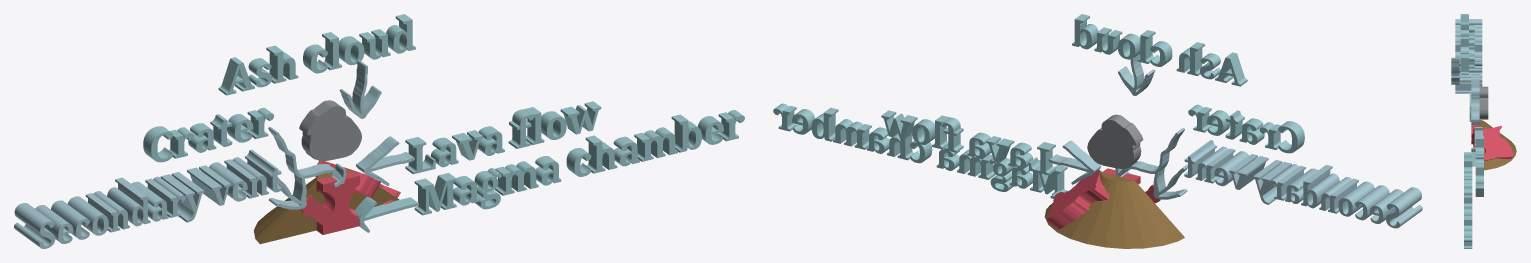
File: Volcano diagram.glb
3 renders of one model, left to right at view 1: azimuth 30°, elevation 25°; view 2: azimuth 150°, elevation 25°; view 3: azimuth 270°, elevation 25°, orthographic. The views are drawn at different scales.
Visible parts, largest first — view 1: Mesh_Mesh_head_geo.001_lambert2SG.001; view 2: Mesh_Mesh_head_geo.001_lambert2SG.001; view 3: Mesh_Mesh_head_geo.001_lambert2SG.001.
Boxes of the visible parts, box(x1,y1,x2,y2) form: Mesh_Mesh_head_geo.001_lambert2SG.001: box(14, 14, 744, 248); Mesh_Mesh_head_geo.001_lambert2SG.001: box(773, 14, 1422, 248); Mesh_Mesh_head_geo.001_lambert2SG.001: box(1451, 14, 1516, 248).
Size of the model in its own units: 0.5183 by 0.1474 by 0.078.
